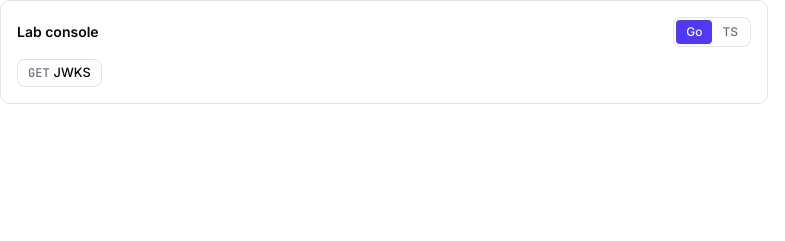
Test: LabConsole › shows the start command instead of throwing when the lab is offline
Step 1. Click the button "GET JWKS" → click(59, 73), box [17,59,102,87]
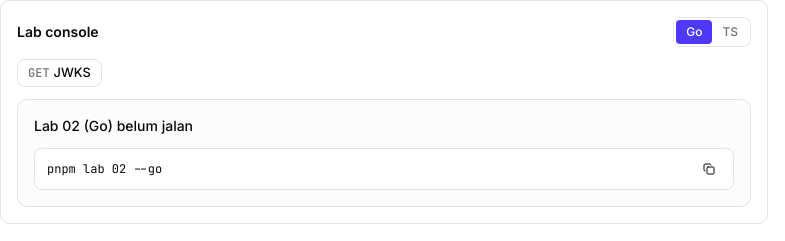
expect the text "Lab 02 (Go) belum jalan" is shown: met, box [34,117,193,134]
expect the text "pnpm lab 02 --go" is shown: met, box [47,161,162,177]
